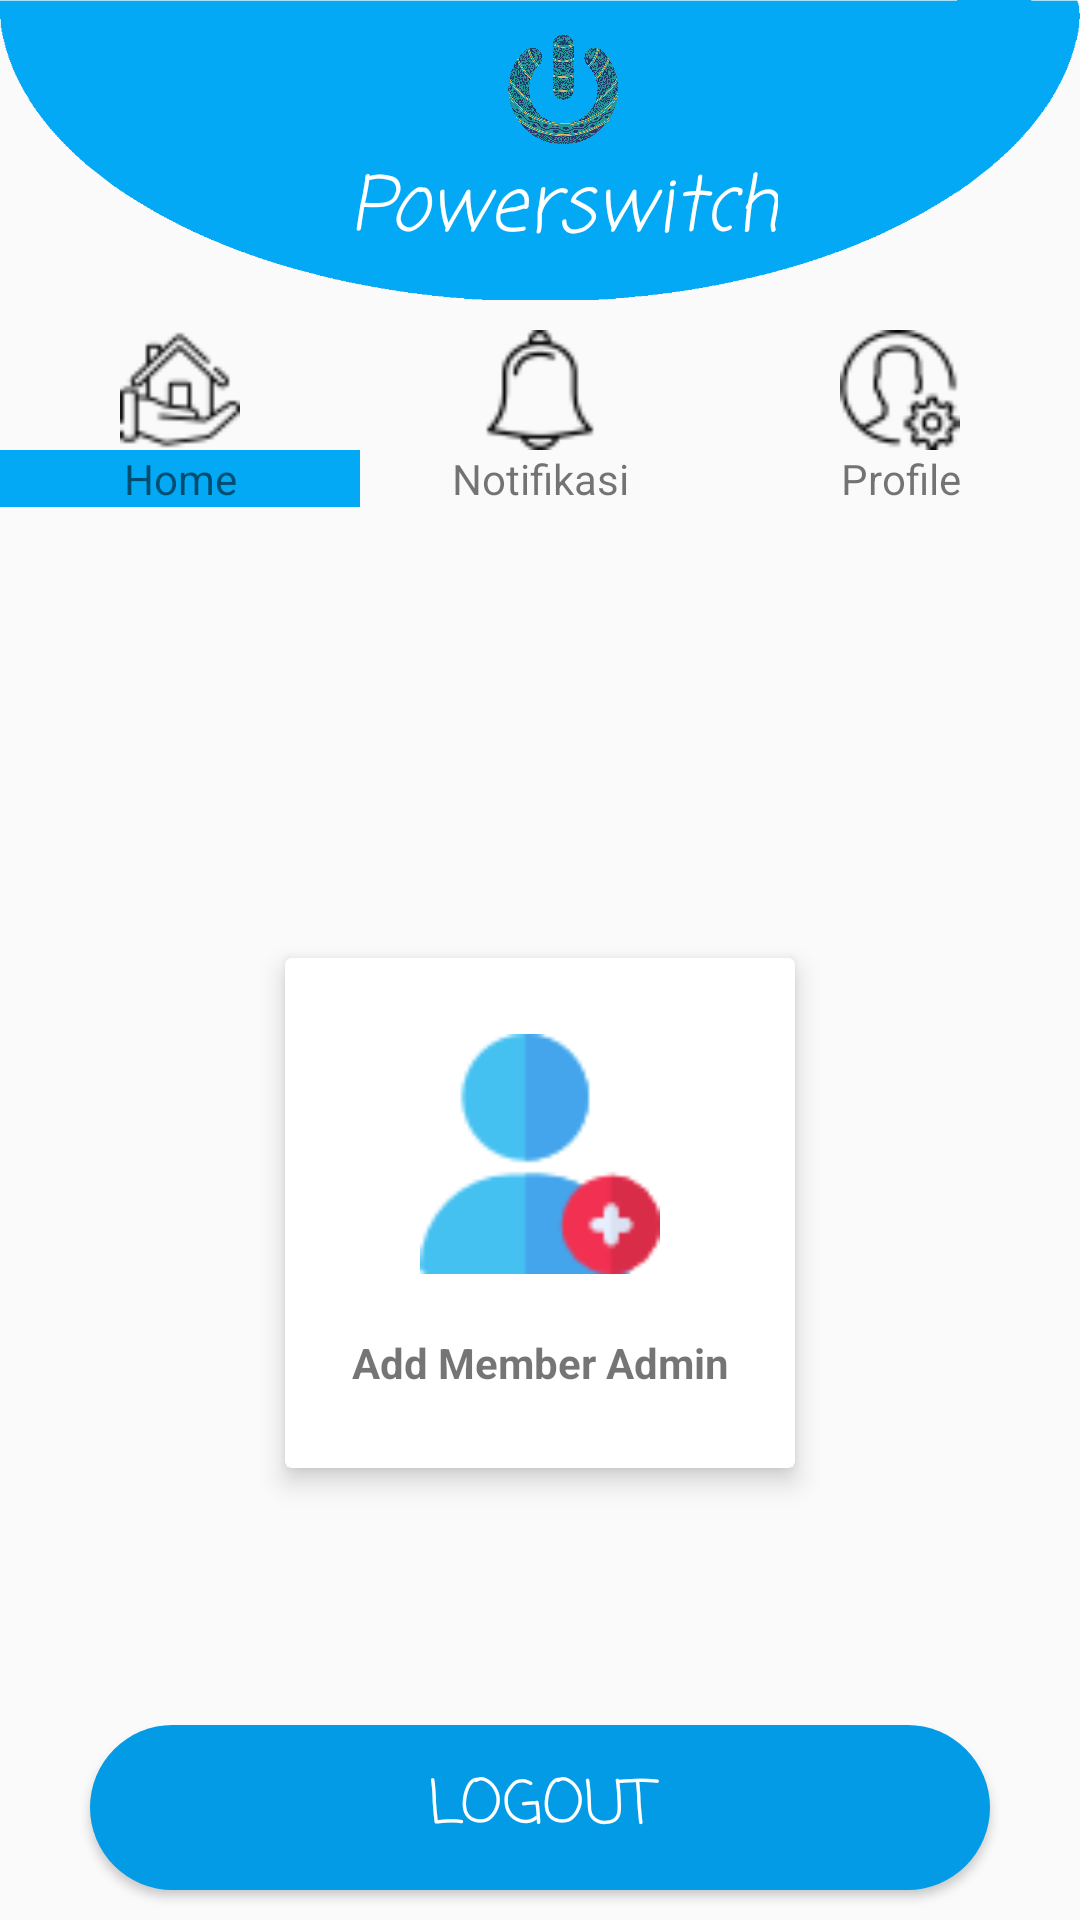

Icons on this 1080w x 1920h Android screen, each with the point to tap as (x=x, y=y):
alarm: (x=540, y=390)
